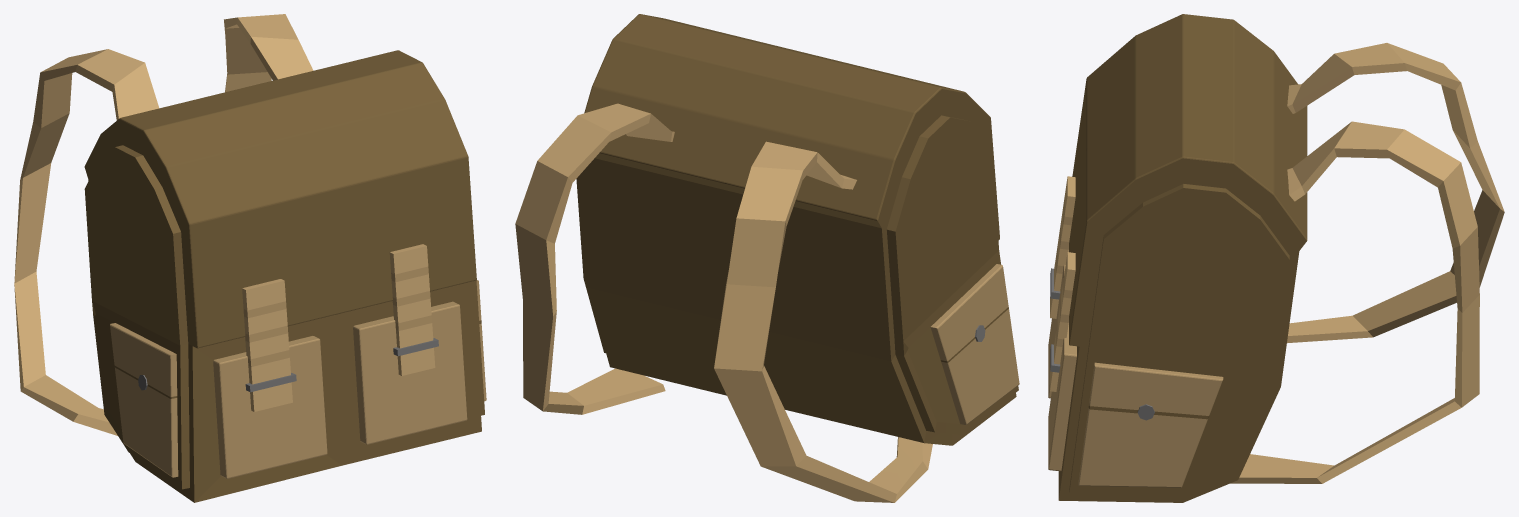
File: Beg.fbx
The picture shows the model from 3 angles, left to right: view 1: azimuth 30°, elevation 25°; view 2: azimuth 150°, elevation 25°; view 3: azimuth 270°, elevation 25°; orthographic projection. The views are drawn at different scales.
Visible parts, largest first — view 1: Cube.001; view 2: Cube.001; view 3: Cube.001.
Boxes of the visible parts, left/top/right/bottom form: Cube.001: left=14, top=14, right=486, bottom=502; Cube.001: left=515, top=14, right=1019, bottom=502; Cube.001: left=1048, top=14, right=1504, bottom=502.
Size of the model in its own units: 1.13 by 1.06 by 1.26.
